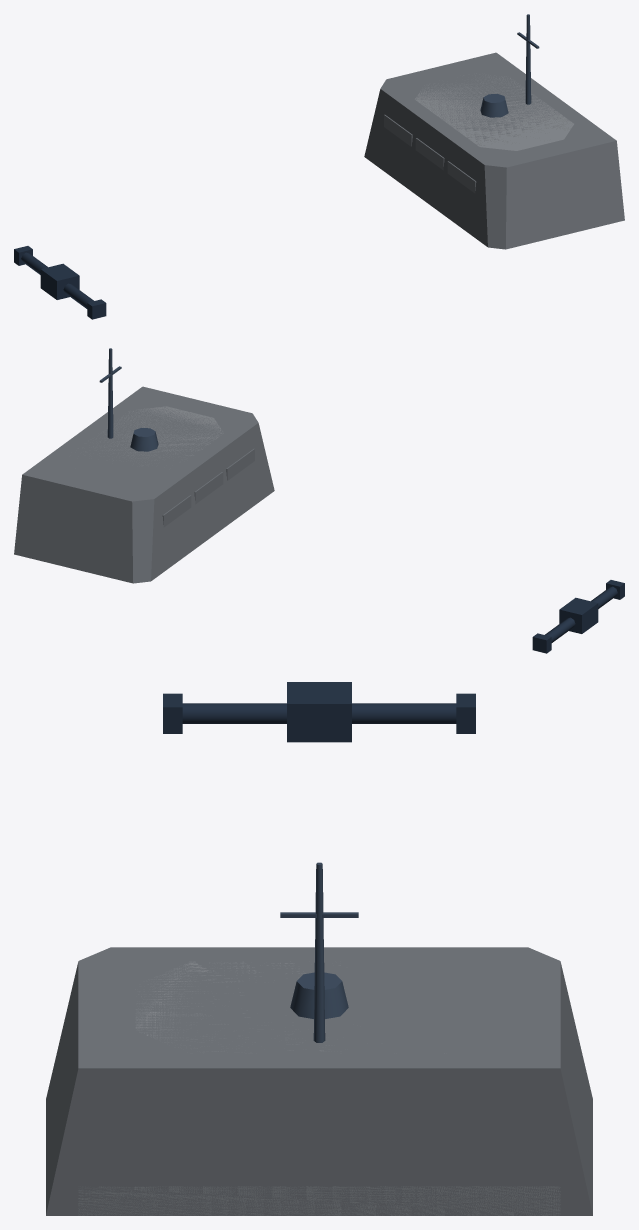
Rendered from GB_Director.glb.
3 renders of one model, top to bottom at view 1: azimuth 30°, elevation 25°; view 2: azimuth 150°, elevation 25°; view 3: azimuth 270°, elevation 25°, orthographic. The views are drawn at different scales.
Visible parts, largest first — view 1: GB_Director__barbette, GB_Director__house, GB_Director__rangefinder, GB_Director__plates, GB_Director__house_trim, GB_Director__mast; view 2: GB_Director__barbette, GB_Director__rangefinder, GB_Director__house, GB_Director__plates, GB_Director__house_trim, GB_Director__mast; view 3: GB_Director__barbette, GB_Director__tower, GB_Director__rangefinder, GB_Director__mast, GB_Director__house_trim, GB_Director__house.
Boxes of the visible parts, bbox=[...] form: GB_Director__barbette: bbox=[364, 52, 624, 249]; GB_Director__house: bbox=[415, 73, 573, 150]; GB_Director__rangefinder: bbox=[14, 246, 106, 319]; GB_Director__plates: bbox=[384, 114, 476, 193]; GB_Director__house_trim: bbox=[480, 93, 508, 117]; GB_Director__mast: bbox=[517, 14, 539, 104]; GB_Director__barbette: bbox=[14, 386, 274, 583]; GB_Director__rangefinder: bbox=[532, 580, 624, 653]; GB_Director__house: bbox=[78, 406, 223, 465]; GB_Director__plates: bbox=[162, 448, 254, 527]; GB_Director__house_trim: bbox=[130, 427, 158, 451]; GB_Director__mast: bbox=[99, 348, 121, 438]; GB_Director__barbette: bbox=[46, 947, 592, 1215]; GB_Director__tower: bbox=[78, 1186, 560, 1215]; GB_Director__rangefinder: bbox=[163, 682, 475, 742]; GB_Director__mast: bbox=[280, 862, 358, 1042]; GB_Director__house_trim: bbox=[290, 972, 348, 1018]; GB_Director__house: bbox=[135, 961, 444, 1053].
Size of the model in its own units: 36 by 11 by 16.8.
